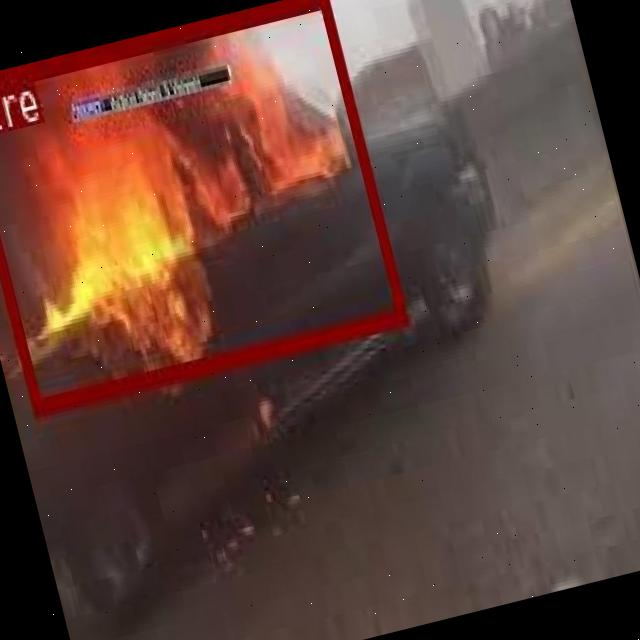fire: (0, 0, 407, 415)
